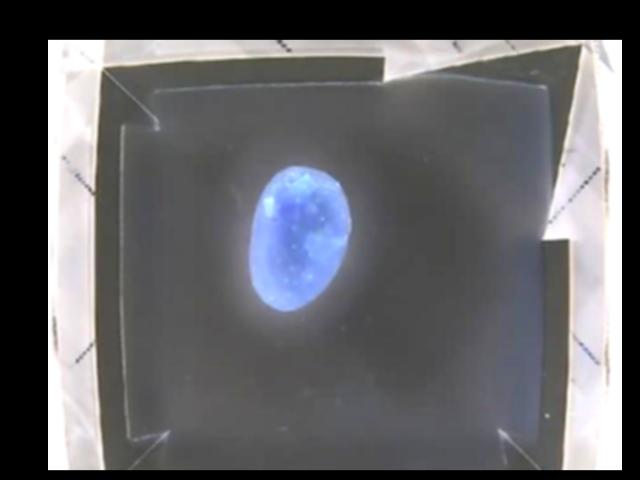Potato: (249, 165, 353, 312)
